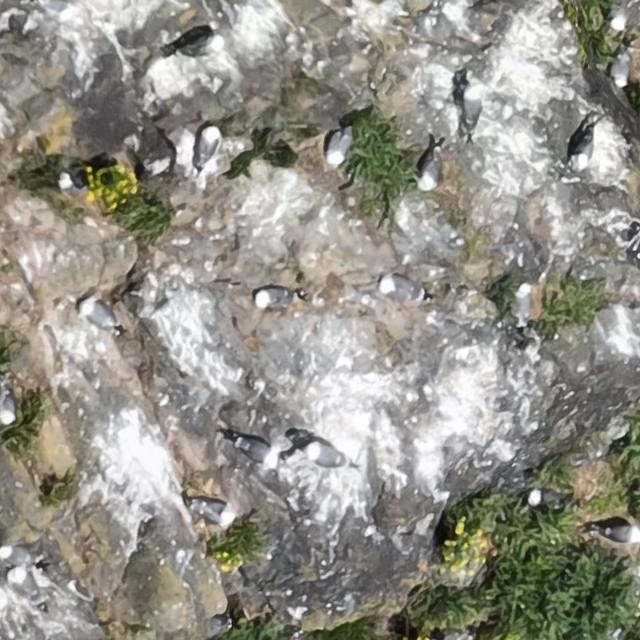umineko: (5, 565, 49, 616), (166, 31, 224, 59), (571, 115, 597, 175), (302, 442, 346, 466), (82, 302, 117, 329), (237, 439, 278, 462), (195, 501, 233, 525), (381, 279, 422, 301), (2, 543, 47, 562), (255, 288, 294, 308), (328, 130, 350, 162), (603, 523, 639, 542), (198, 126, 218, 160), (420, 154, 439, 188), (464, 86, 480, 126), (613, 52, 631, 86), (529, 491, 564, 508), (60, 170, 85, 192), (516, 286, 531, 320), (0, 390, 15, 424)
